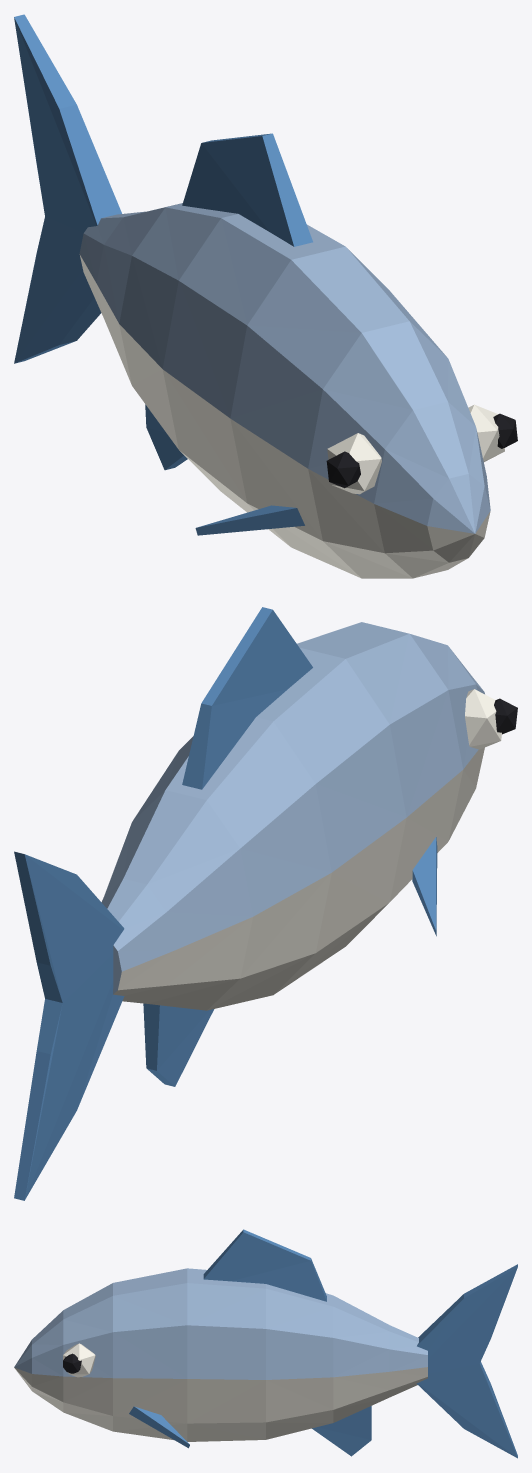
The model's file is NetFish.obj.
3 renders of one model, top to bottom at view 1: azimuth 30°, elevation 25°; view 2: azimuth 150°, elevation 25°; view 3: azimuth 270°, elevation 25°, orthographic. The views are drawn at different scales.
Visible parts, largest first — view 1: NetFish; view 2: NetFish; view 3: NetFish.
Boxes of the visible parts, x1,y1,x2,y2 form: NetFish: [14, 14, 517, 578]; NetFish: [14, 607, 517, 1200]; NetFish: [14, 1229, 517, 1458].
Bounding box in the file's own units: 0.0683 × 0.111 × 0.224.
